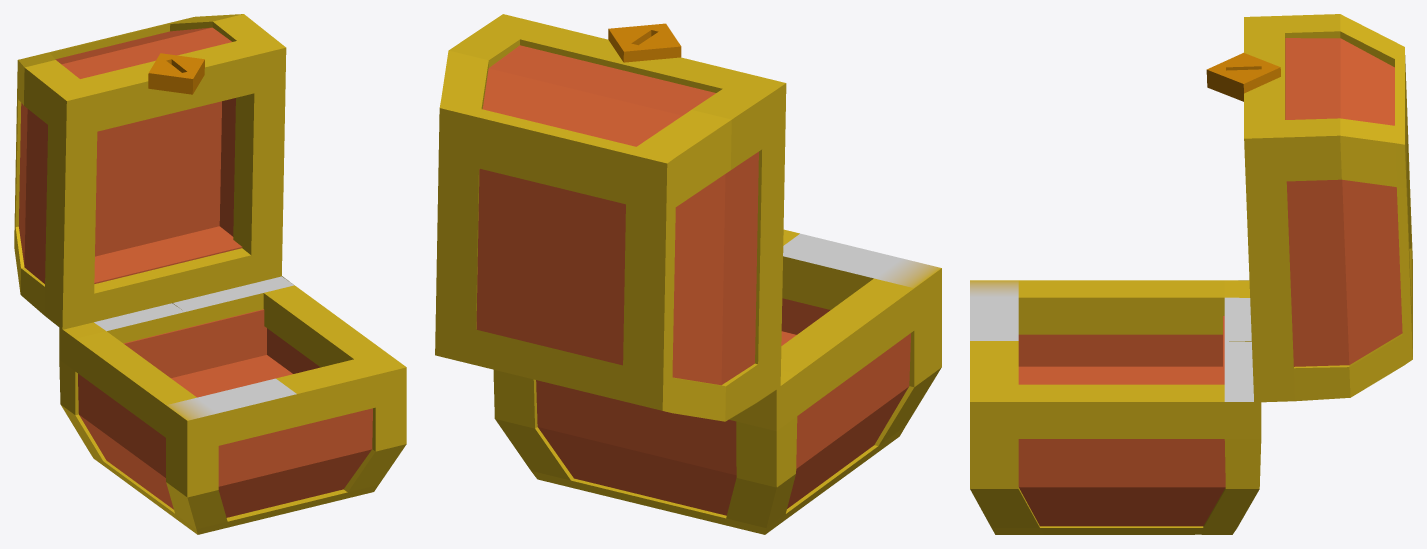
Rendered from ChestOpen.fbx.
The picture shows the model from 3 angles, left to right: view 1: azimuth 30°, elevation 25°; view 2: azimuth 150°, elevation 25°; view 3: azimuth 270°, elevation 25°; orthographic projection. The views are drawn at different scales.
Parts seen in each view (by area): view 1: Cube.001; view 2: Cube.001; view 3: Cube.001.
Boxes of the visible parts, left/top/right/bottom form: Cube.001: left=14, top=14, right=406, bottom=534; Cube.001: left=435, top=14, right=941, bottom=534; Cube.001: left=970, top=14, right=1412, bottom=534.
Size of the model in its own units: 255 by 408 by 391.
